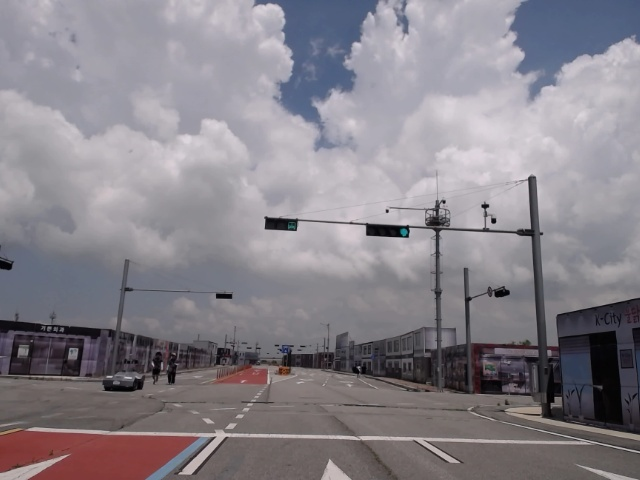straight_green_4: (369, 224, 410, 240)
